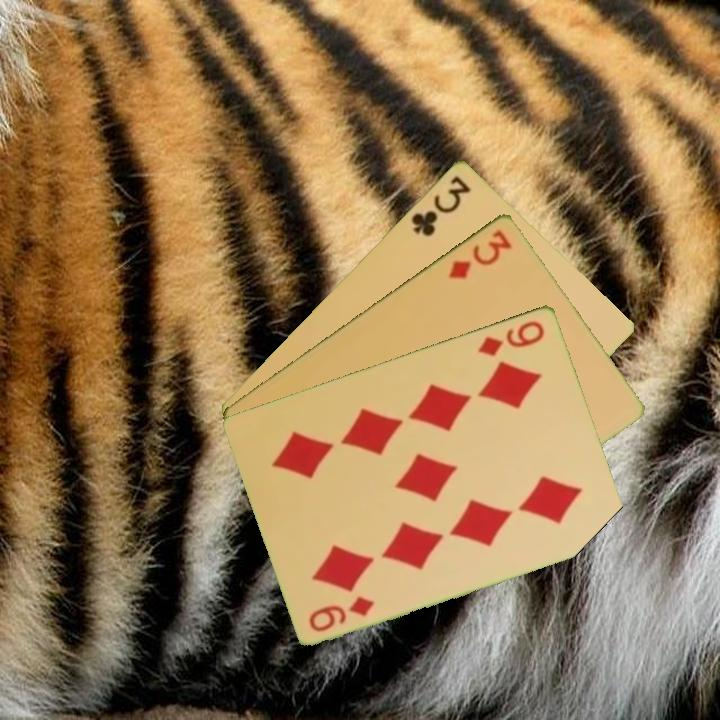3c: (407, 171, 474, 239)
3d: (445, 225, 516, 282)
9d: (474, 316, 548, 359), (305, 592, 378, 635)
